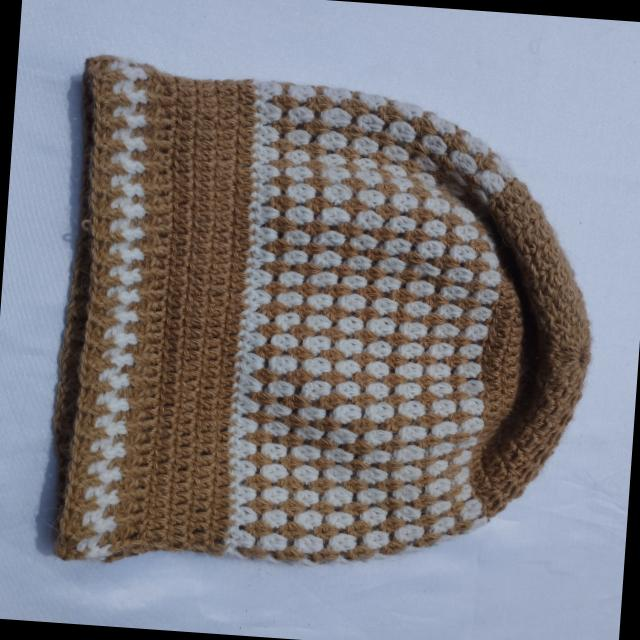Gorro: (42, 52, 610, 596)
